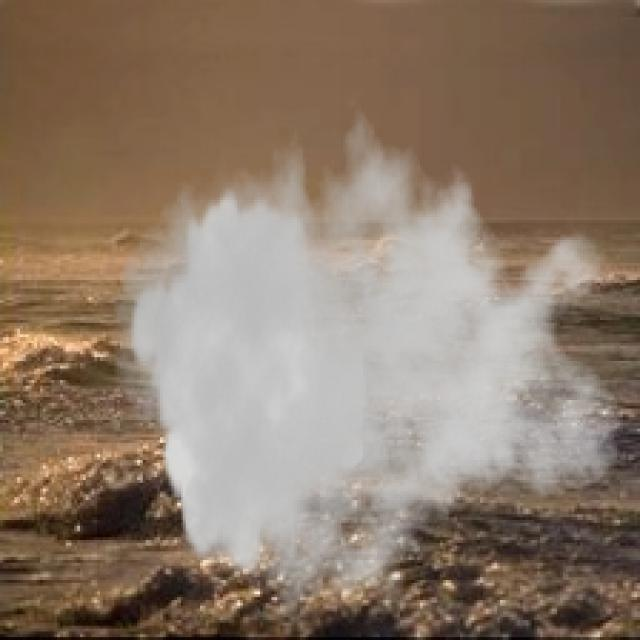Smoke: (111, 86, 626, 628)
